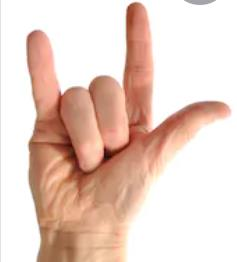back: (22, 1, 234, 226)
